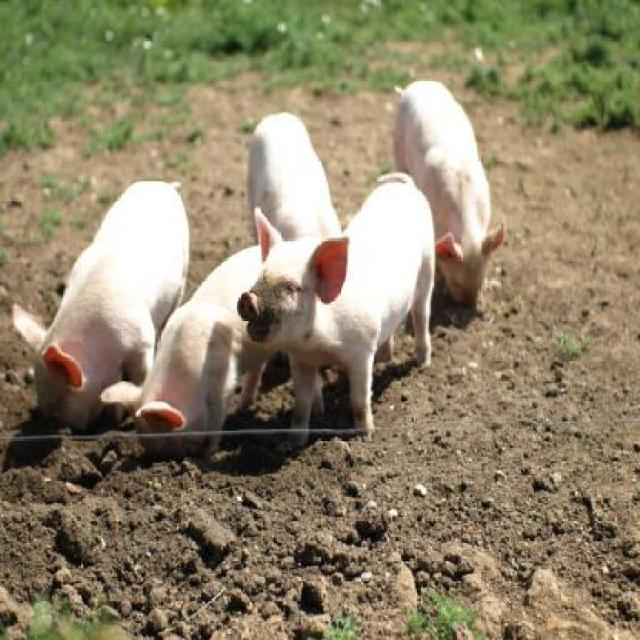Boar: (11, 80, 504, 466)
